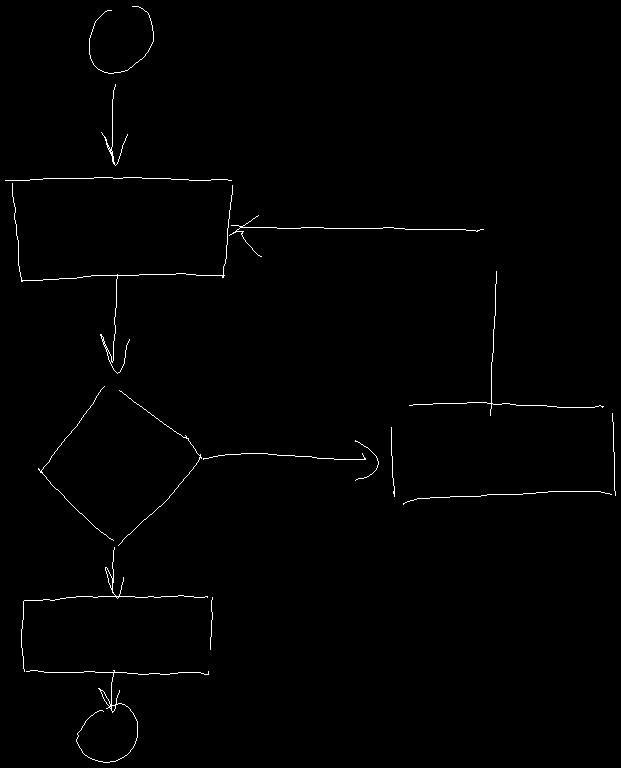arrow: (229, 215, 496, 415), (203, 440, 378, 480), (100, 274, 129, 373), (101, 84, 127, 165), (105, 547, 123, 598), (98, 670, 119, 712)
connection: (89, 6, 153, 73), (76, 703, 137, 762)
decision: (38, 386, 201, 545)
process: (5, 177, 232, 281), (391, 402, 615, 504), (21, 595, 212, 674)
